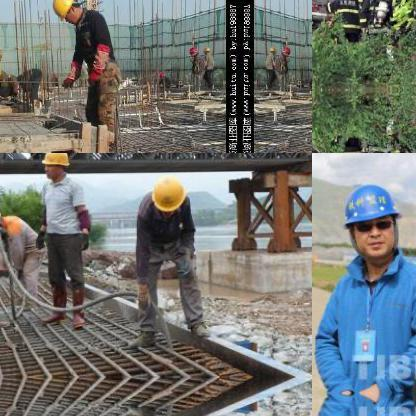Helmet: (339, 180, 399, 262), (148, 172, 188, 214), (41, 153, 72, 181), (48, 0, 80, 21), (280, 43, 292, 55), (186, 43, 196, 55), (264, 44, 276, 54), (202, 44, 212, 54), (157, 68, 163, 76)
